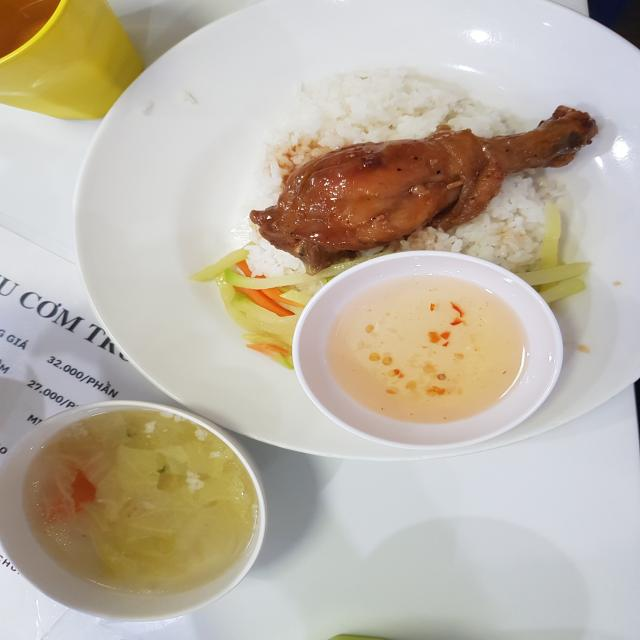canh cai: (29, 409, 259, 593)
com: (261, 68, 526, 200), (400, 173, 560, 270), (246, 238, 305, 277)
ga chien: (250, 106, 597, 269)
nuoc mam: (329, 278, 525, 424)
rau: (190, 243, 392, 369), (511, 204, 590, 305)
